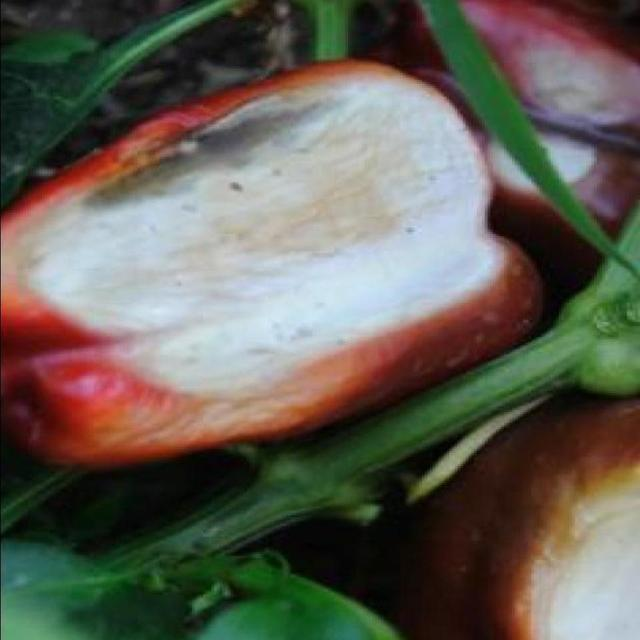Sunscald Fruit: (80, 78, 386, 358)
